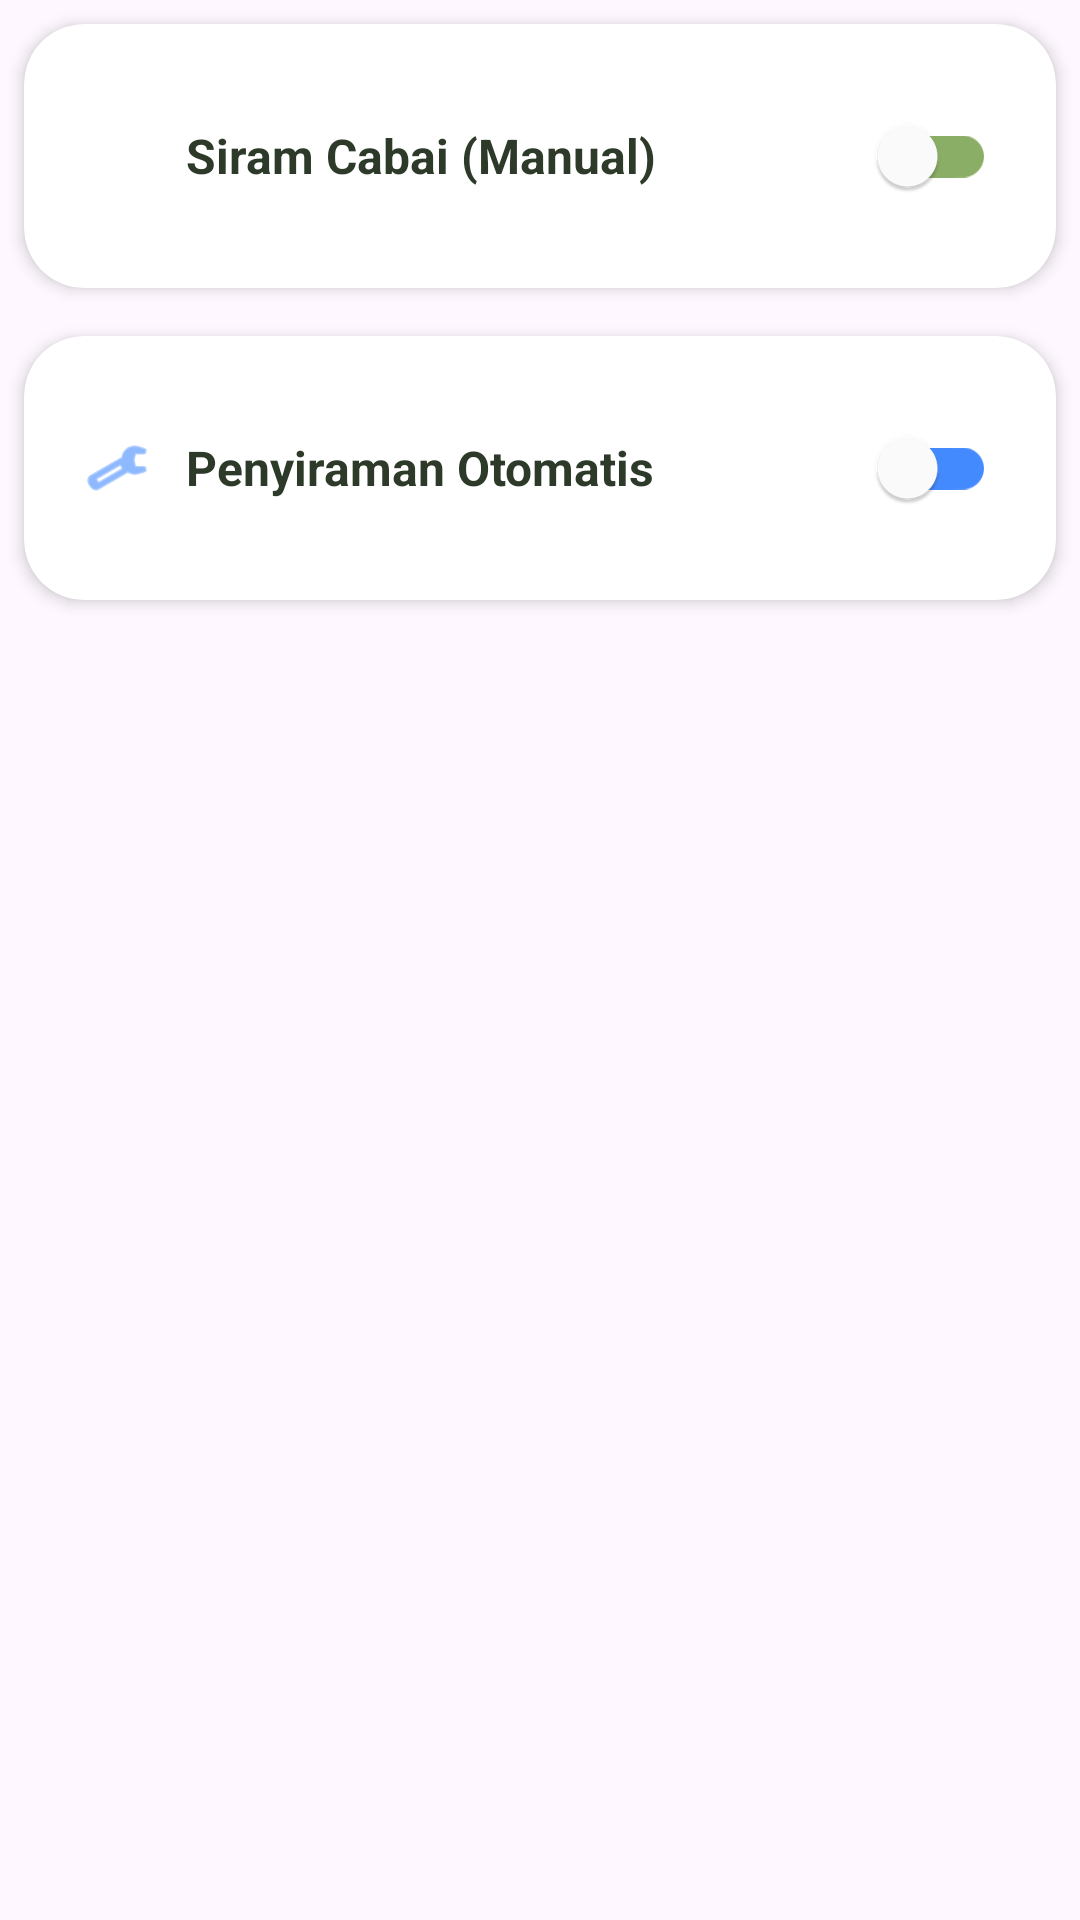

Named icons in this screenshot (1080w x 1920h) and their centers, point (x, y):
manage: point (117, 468)
